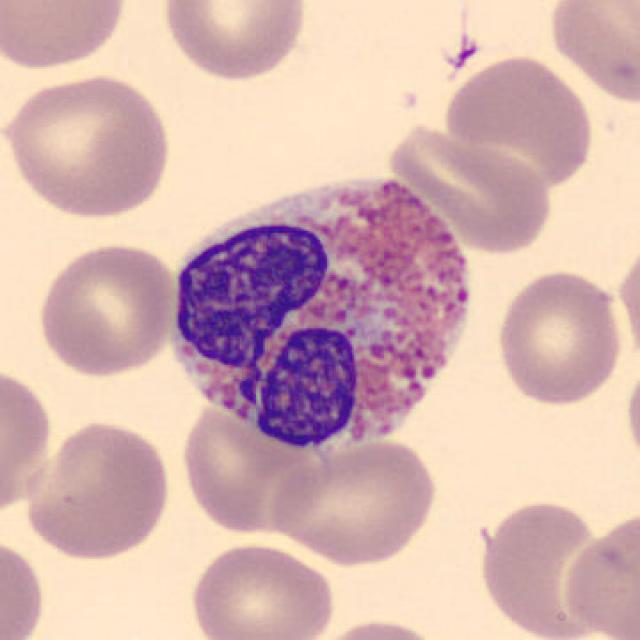Eosinophil: (157, 155, 490, 471)
RBC: (2, 69, 176, 222), (439, 49, 599, 196), (268, 433, 442, 568), (20, 416, 174, 563), (388, 127, 553, 256), (34, 238, 180, 381), (178, 398, 325, 538), (473, 496, 610, 638), (492, 264, 626, 409), (184, 537, 339, 640), (156, 0, 313, 85), (542, 0, 640, 108), (558, 513, 640, 640), (0, 0, 132, 74), (0, 362, 59, 520), (0, 534, 48, 638), (615, 236, 640, 376), (308, 615, 446, 640), (622, 353, 640, 476)
